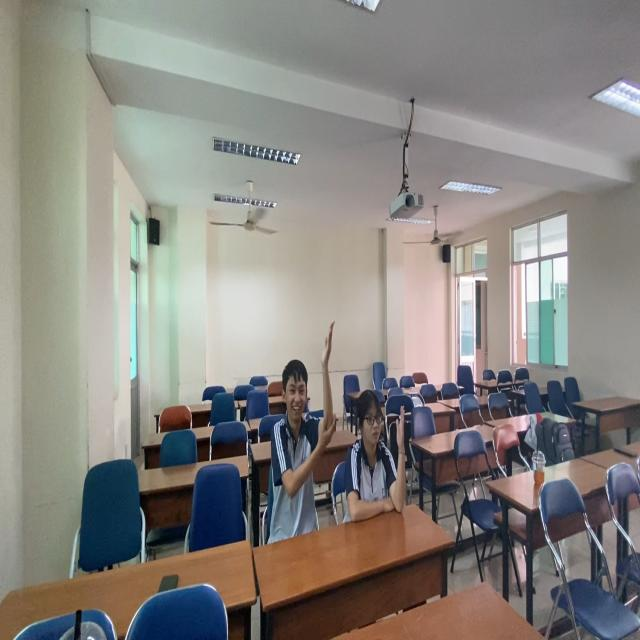raise_hand: (271, 312, 341, 546), (347, 385, 413, 537)
